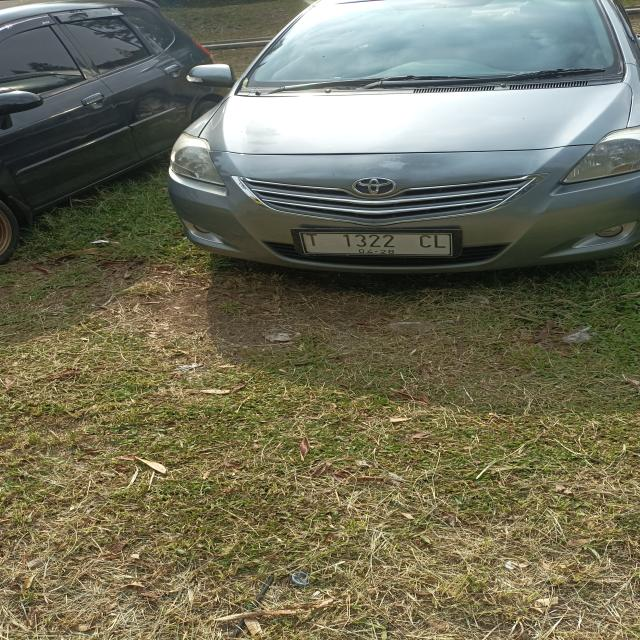license-plat: (281, 224, 486, 272)
